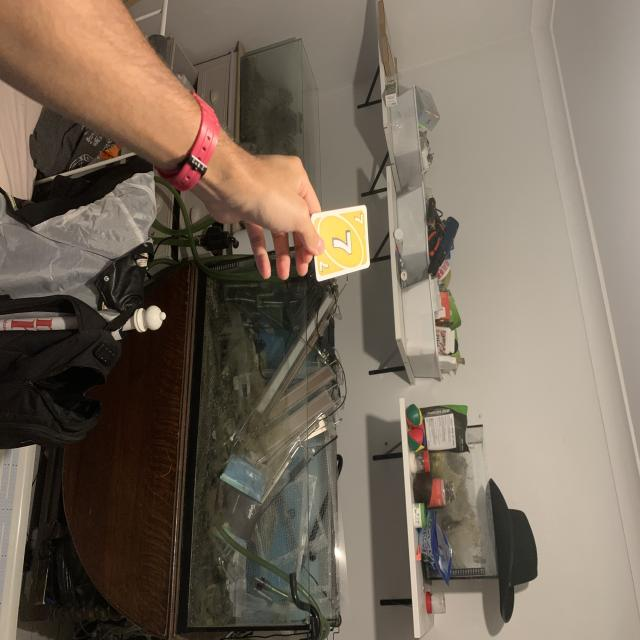lyellow-7: (351, 212, 365, 226)
